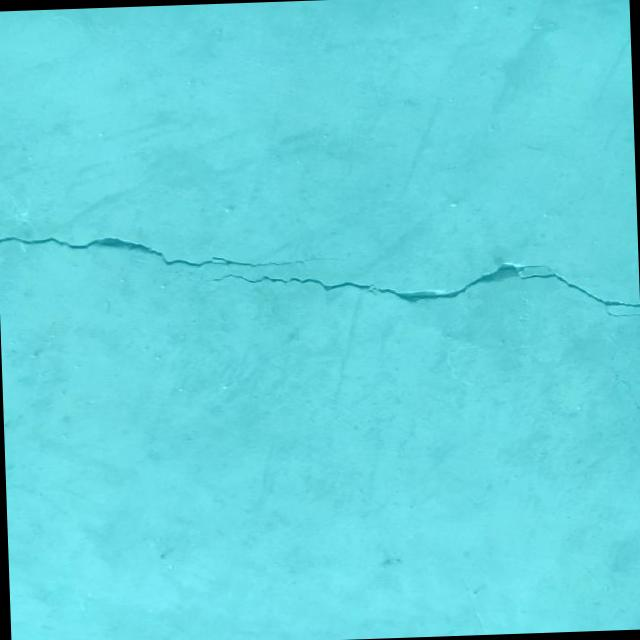crack: (171, 255, 640, 332), (0, 223, 345, 276), (615, 372, 640, 410)
